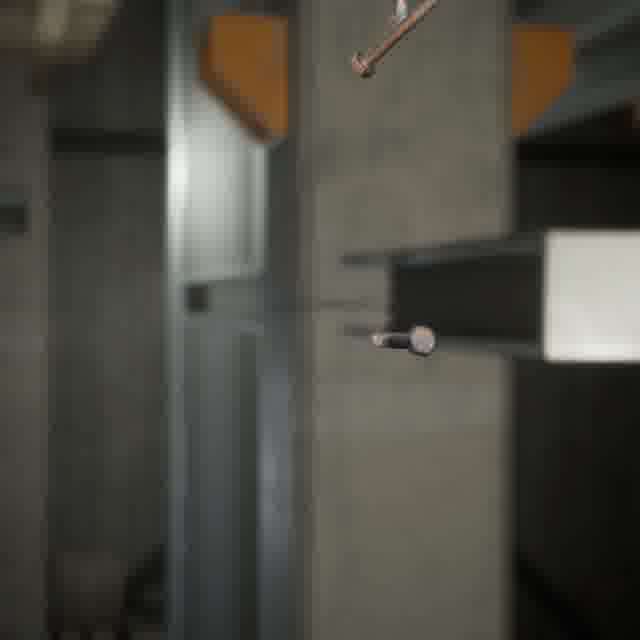bolt: (346, 0, 448, 83), (366, 321, 441, 360), (384, 0, 414, 33)
